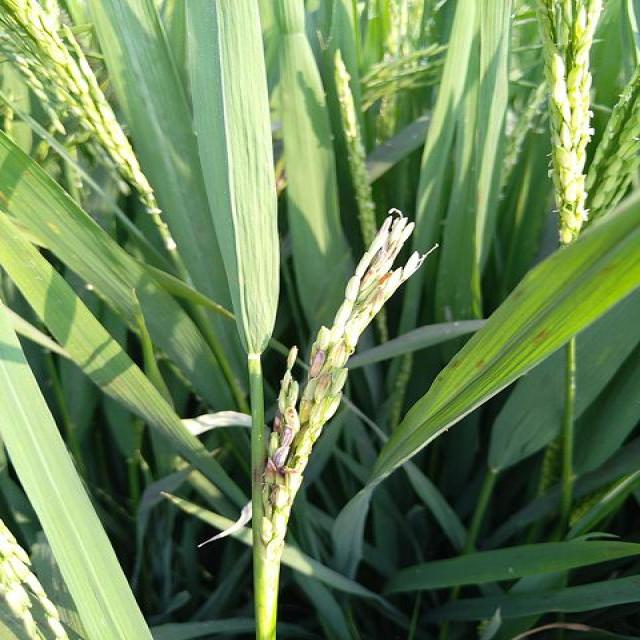Panicle Blight: (356, 210, 412, 310), (265, 416, 297, 476), (307, 344, 331, 400), (280, 346, 299, 405), (329, 338, 352, 369), (271, 484, 292, 510), (287, 407, 299, 430)
